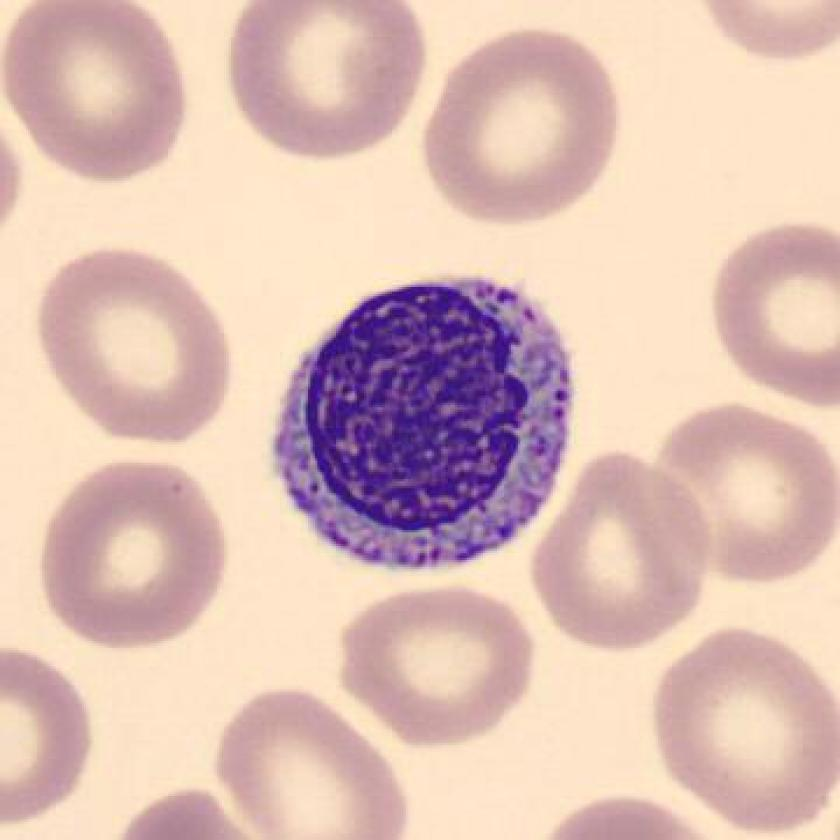monocyte: (256, 251, 592, 589)
